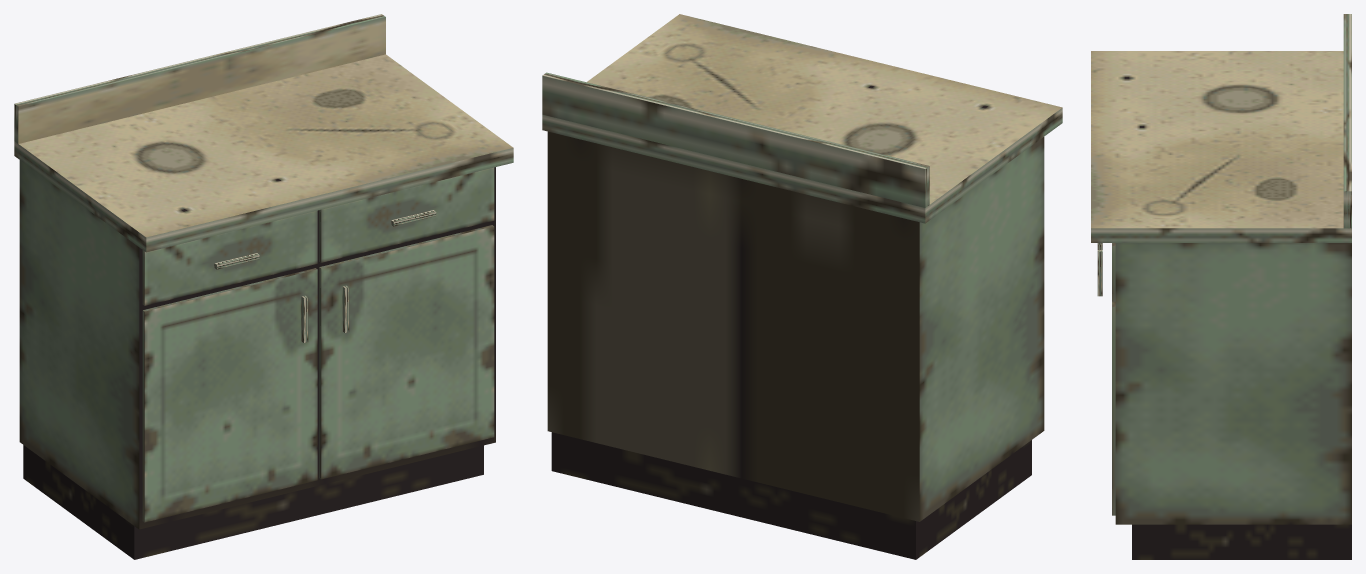
File: kitchen_counter.obj
The picture shows the model from 3 angles, left to right: view 1: azimuth 30°, elevation 25°; view 2: azimuth 150°, elevation 25°; view 3: azimuth 270°, elevation 25°; orthographic projection. The views are drawn at different scales.
Parts seen in each view (by area): view 1: kitchen_counter; view 2: kitchen_counter; view 3: kitchen_counter.
Boxes of the visible parts, box(x1,y1,x2,y2) form: kitchen_counter: box(14, 14, 513, 559); kitchen_counter: box(542, 14, 1062, 559); kitchen_counter: box(1091, 14, 1351, 559).
Size of the model in its own units: 1.03 by 1.01 by 0.64.
Materials: 1 (1 with a texture image).
